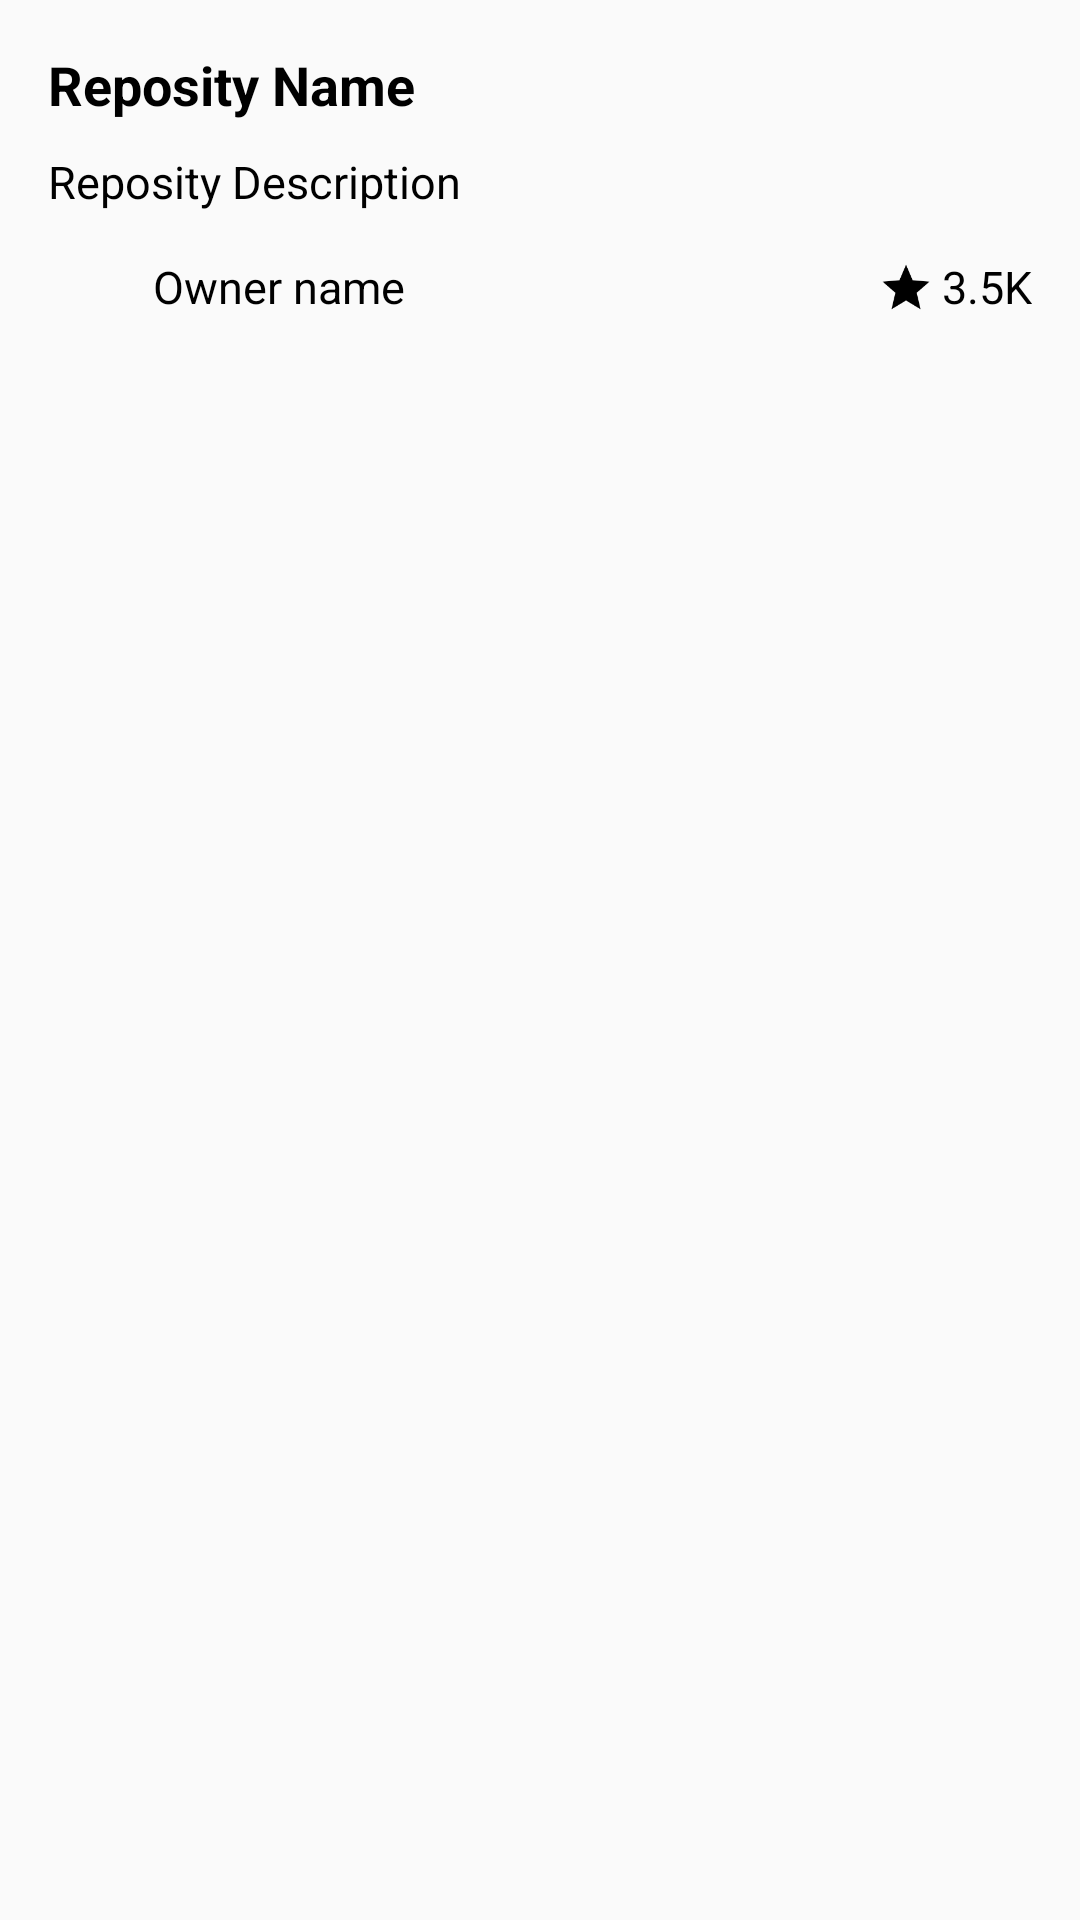

Point at icon controls on the screen. Image size 1080x1920, points as [x,y].
star rate: [906,287]
